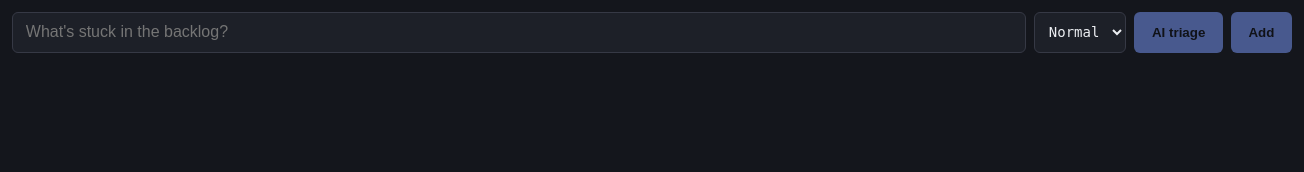
Scenario: TaskForm › AI triage fills in the suggested title and priority on success
The image size is (1304, 172).
Type "nav thing broken on phones asap" into the field named "Task title" at (519, 32), box 12,12 -> 1026,53
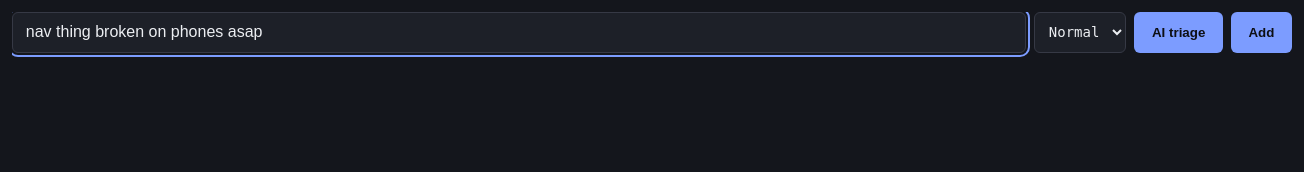
Click the button "AI triage" at (1179, 32), box 1134,12 -> 1223,53
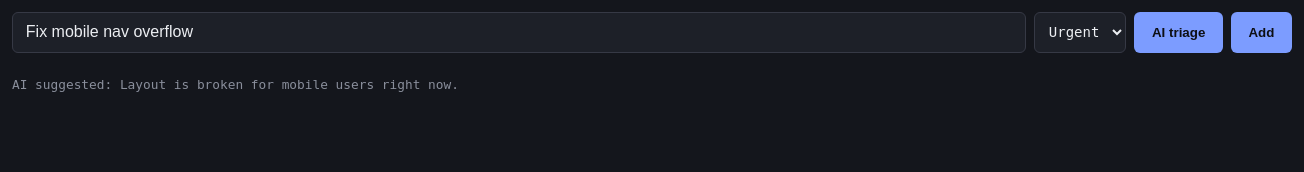
Expected: the field showing "Fix mobile nav overflow" is shown, 12,12 -> 1026,53
Expected: the dropdown named "Priority" shows "Urgent", 1034,12 -> 1126,53
Expected: the text "AI suggested: Layout is broken for mobile users right now." is shown, 12,77 -> 459,92
